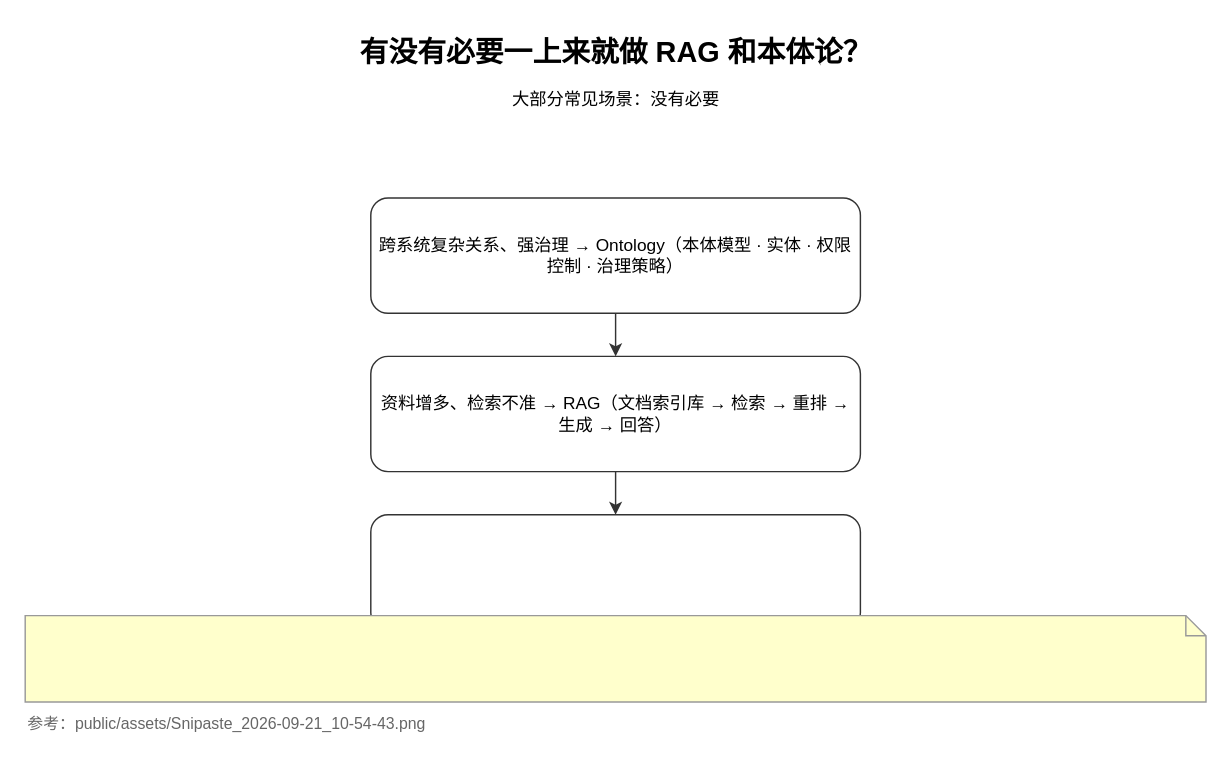
Image size: 1231x760. Some labels were removed from this diagram. The centre of each missing label's shape, as x and y in pixels:
先小后大 | 先简单后复杂 | 先验证价值再工程化；大多数岗位只反复调用有限资料，百万级上下文先能覆盖不少小知识库: (615,658)
少量高频资料 → 文件夹 / 云文档: (614,571)
